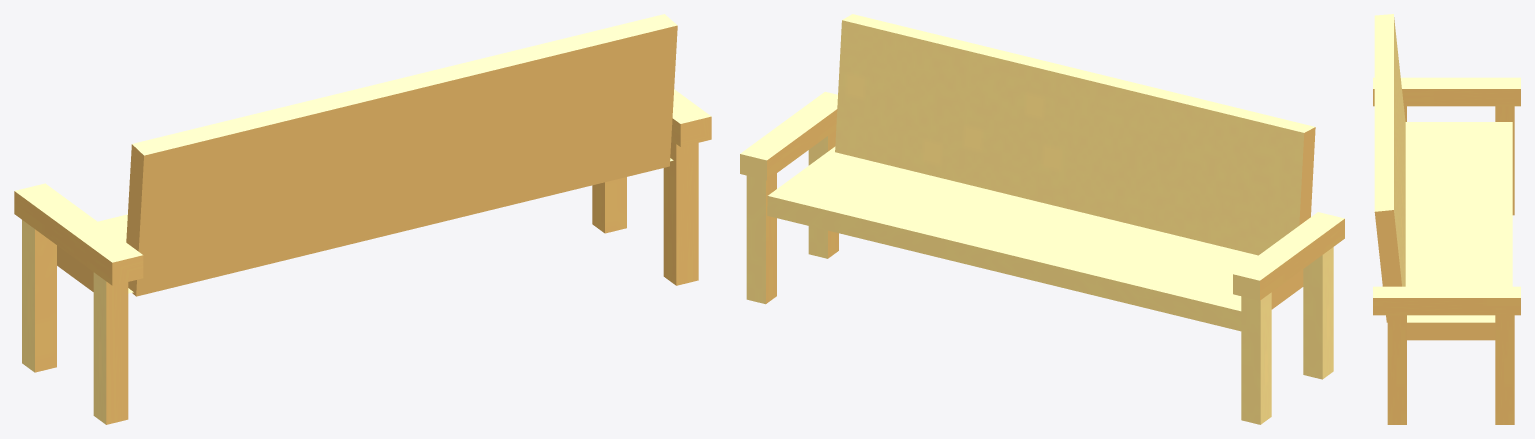
File: bench.glb
3 renders of one model, left to right at view 1: azimuth 30°, elevation 25°; view 2: azimuth 150°, elevation 25°; view 3: azimuth 270°, elevation 25°, orthographic. The views are drawn at different scales.
Parts seen in each view (by area): view 1: bench(Clone); view 2: bench(Clone); view 3: bench(Clone).
Part boxes in pixels (x1,y1,x2,y2): bench(Clone): (14,14,711,424); bench(Clone): (740,14,1344,424); bench(Clone): (1373,14,1520,424).
Bounding box in the file's own units: 2.1 × 0.9073 × 0.5956.
Materials: 1 (1 with a texture image).
